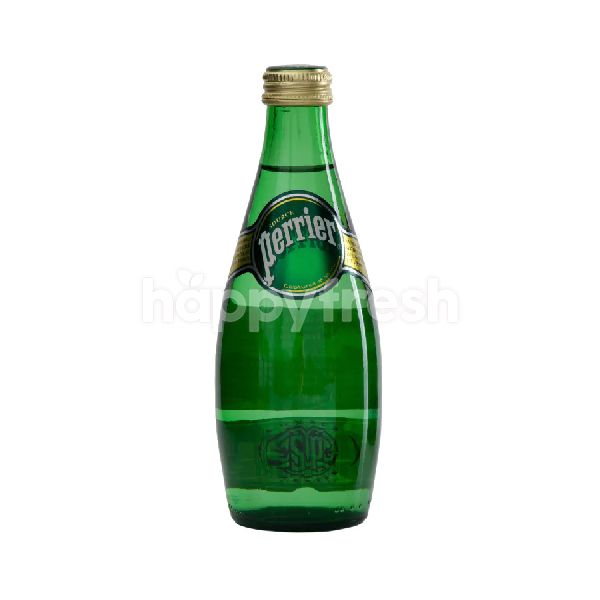glass_bottleww: (161, 36, 500, 569)
